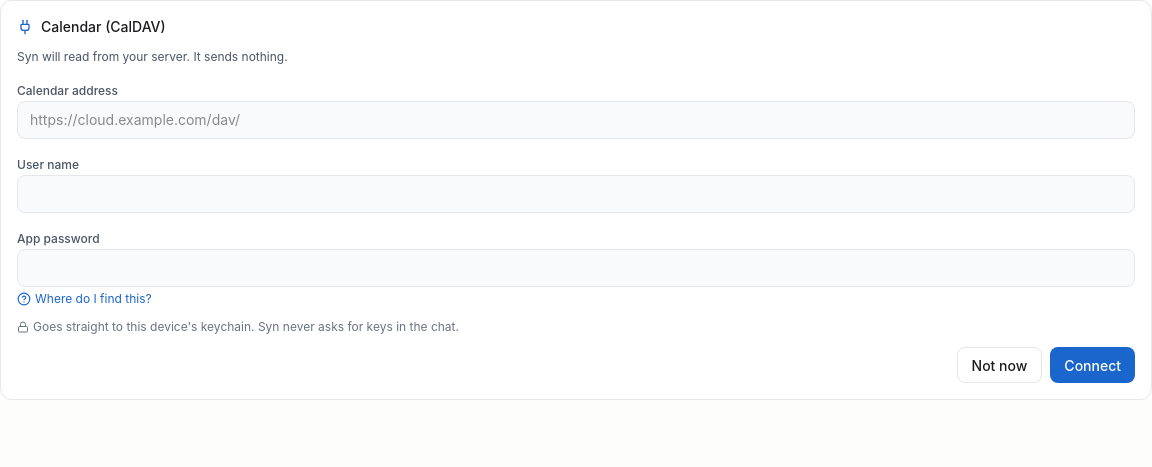
The connect card › a rejected key is said plainly, the card stays, and the field is pointed at
Click the button with test id "connect": click(1093, 365) 1050,347 -> 1135,383
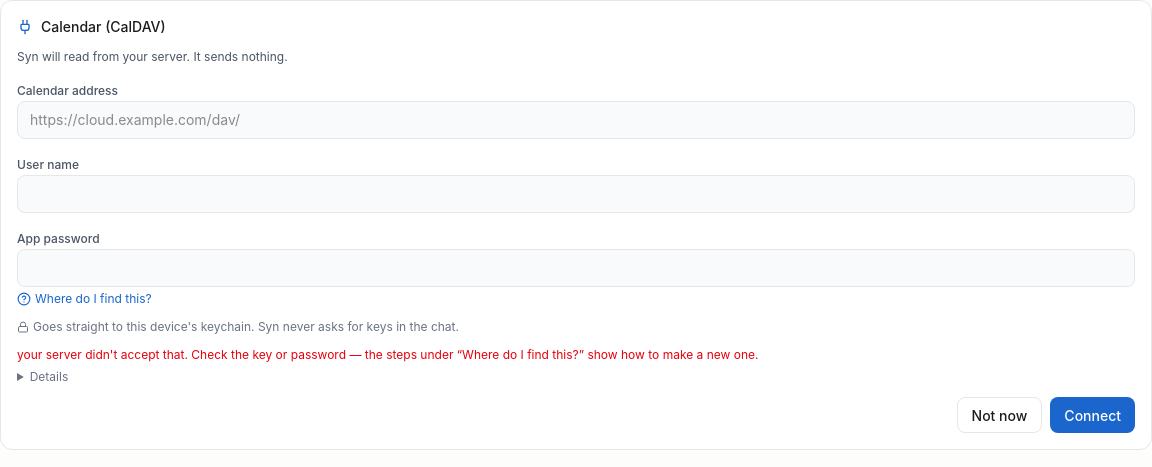
Check: the button with test id "connect" is shown, box 1050,397 -> 1135,433
Check: the element with test id "connect-problem" shows "didn't accept", box 17,347 -> 758,362
